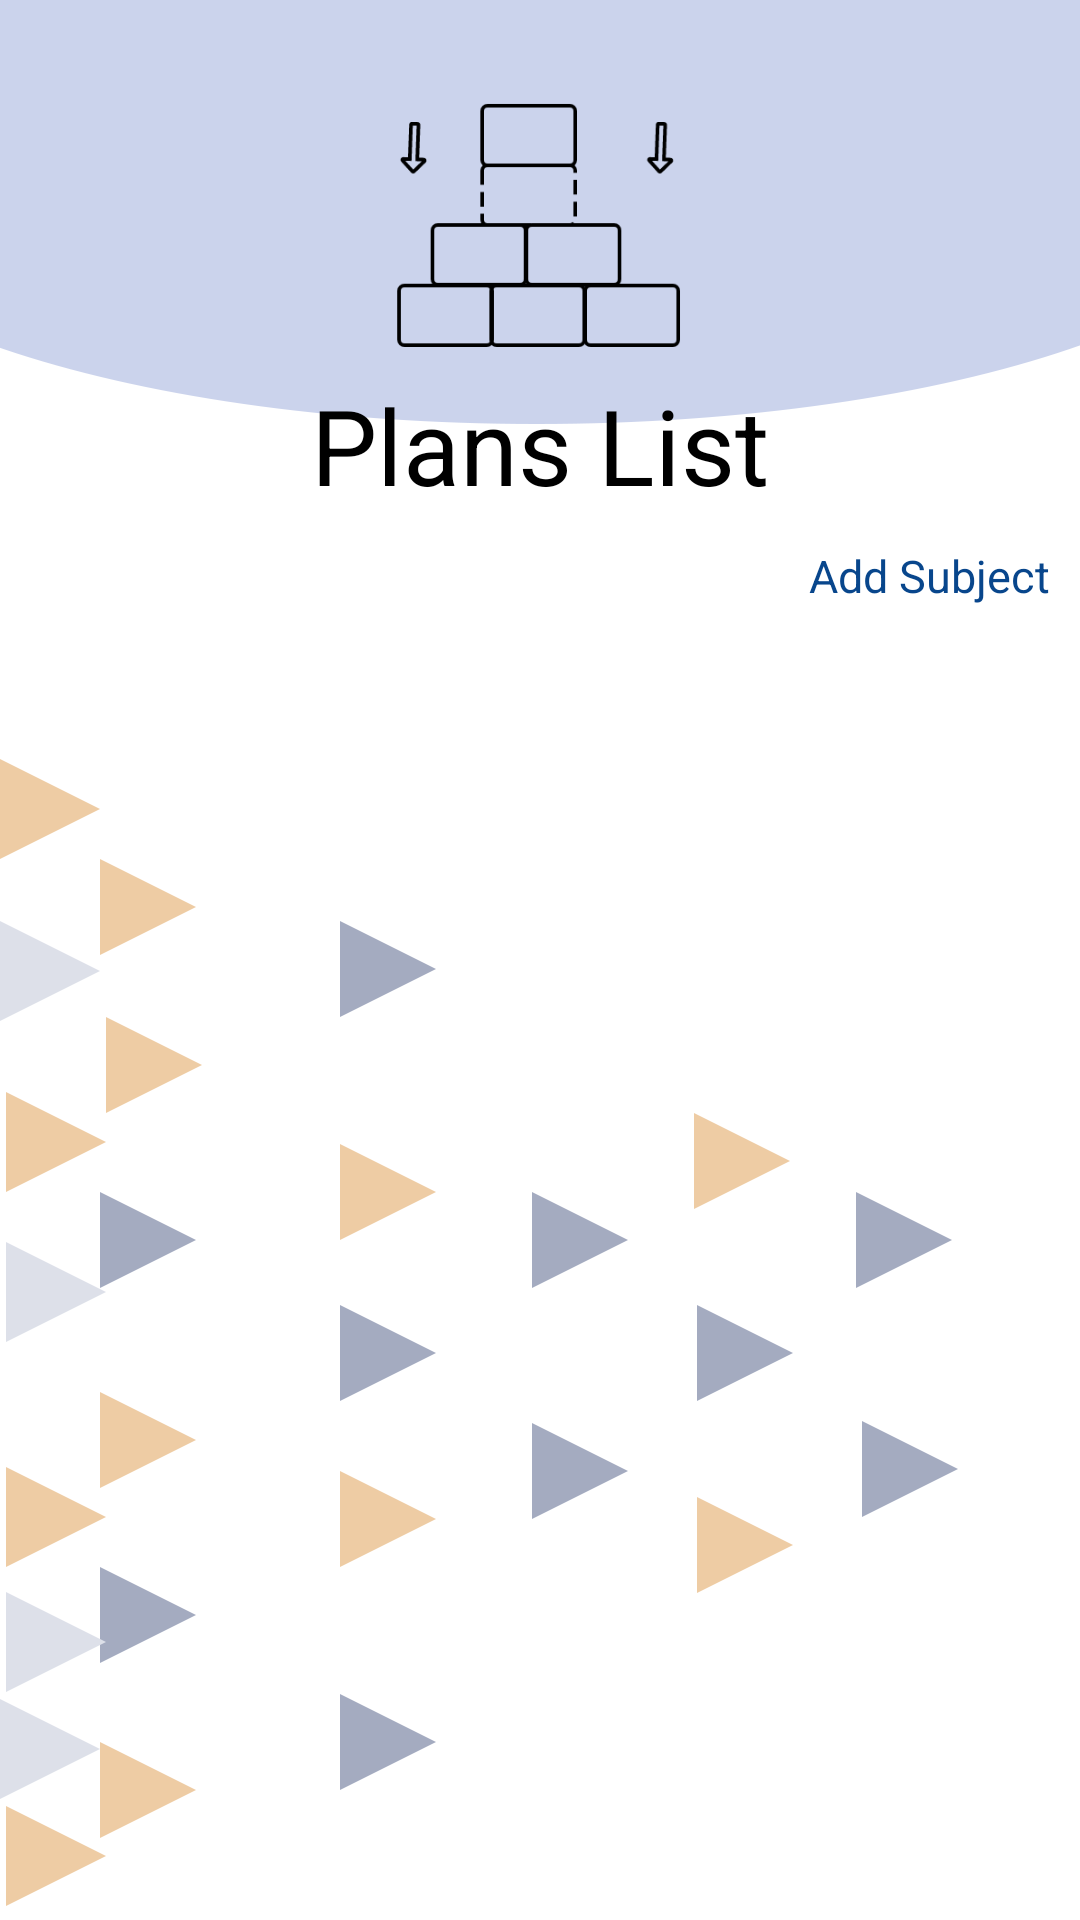

Where icons sit on this 1080 x 1920 app screen, as (x1, y1, x2, y2):
planner: (397, 104, 680, 347)
